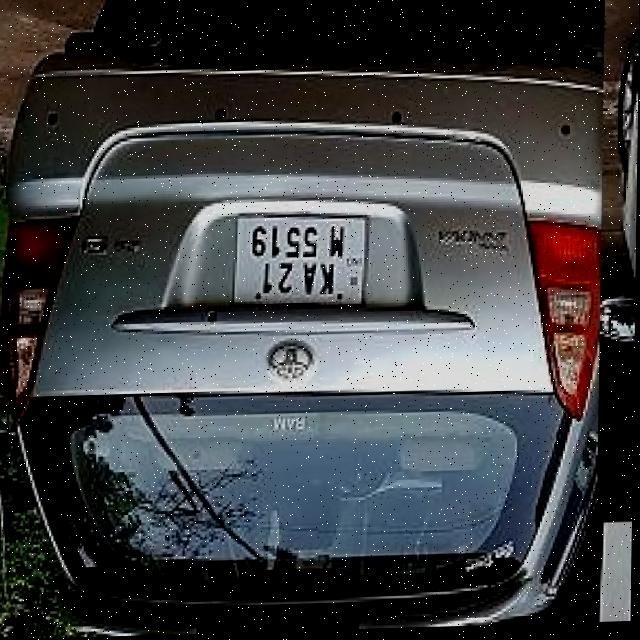plate: (236, 211, 365, 311)
